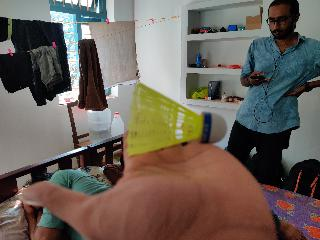shuttlecock: (126, 83, 226, 157)
